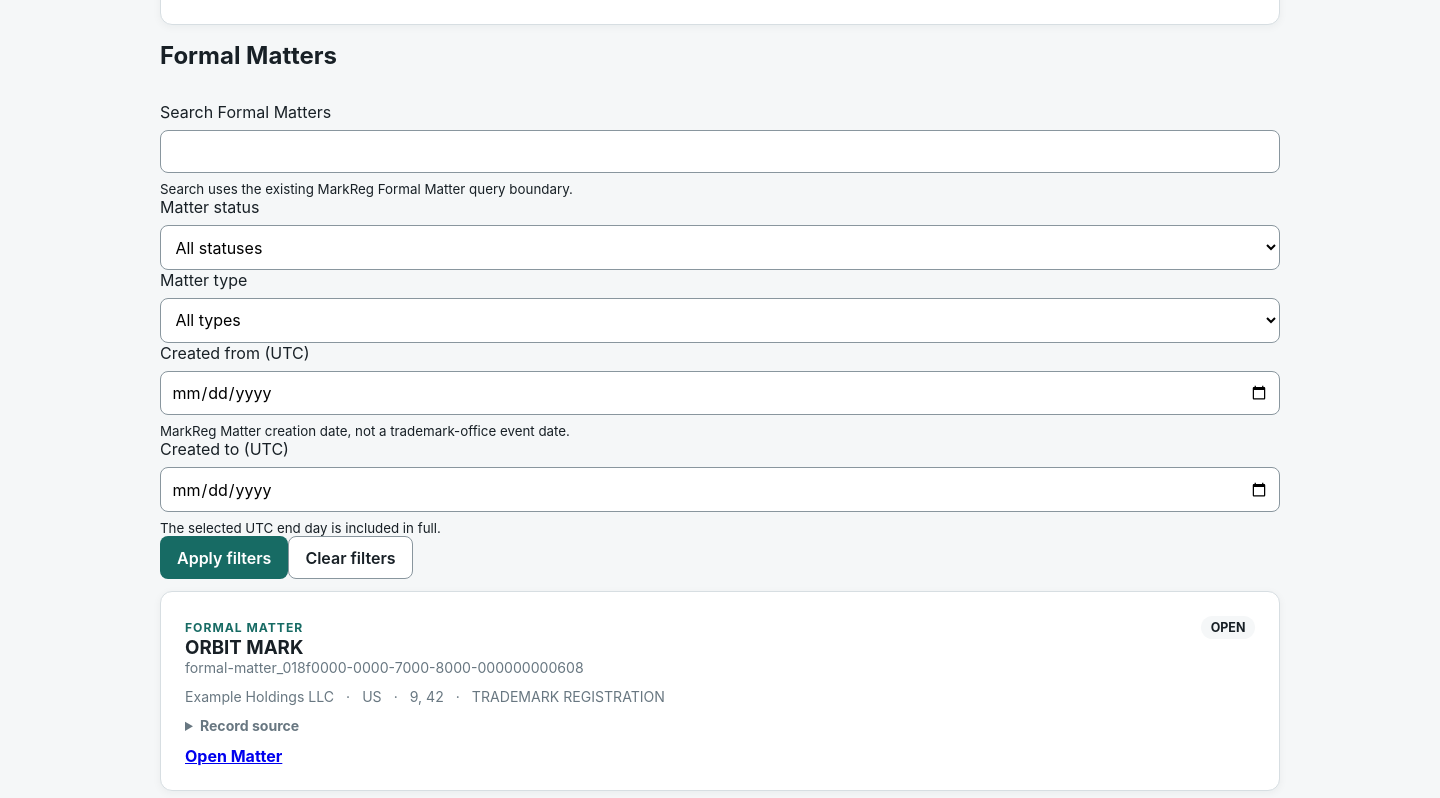
MarkReg durable Workspace Home › rejects an inverted creation range without replacing durable Matter results
This screenshot has width=1440, height=798.
(page scrolled)
Expected: the text "formal-matter_018f0000-0000-7000-8000-000000000608" is shown, [185, 659, 584, 676]
Step 1. Type "2026-09-01" into the date field labelled "Created from (UTC)" → (720, 393), box [160, 371, 1280, 416]
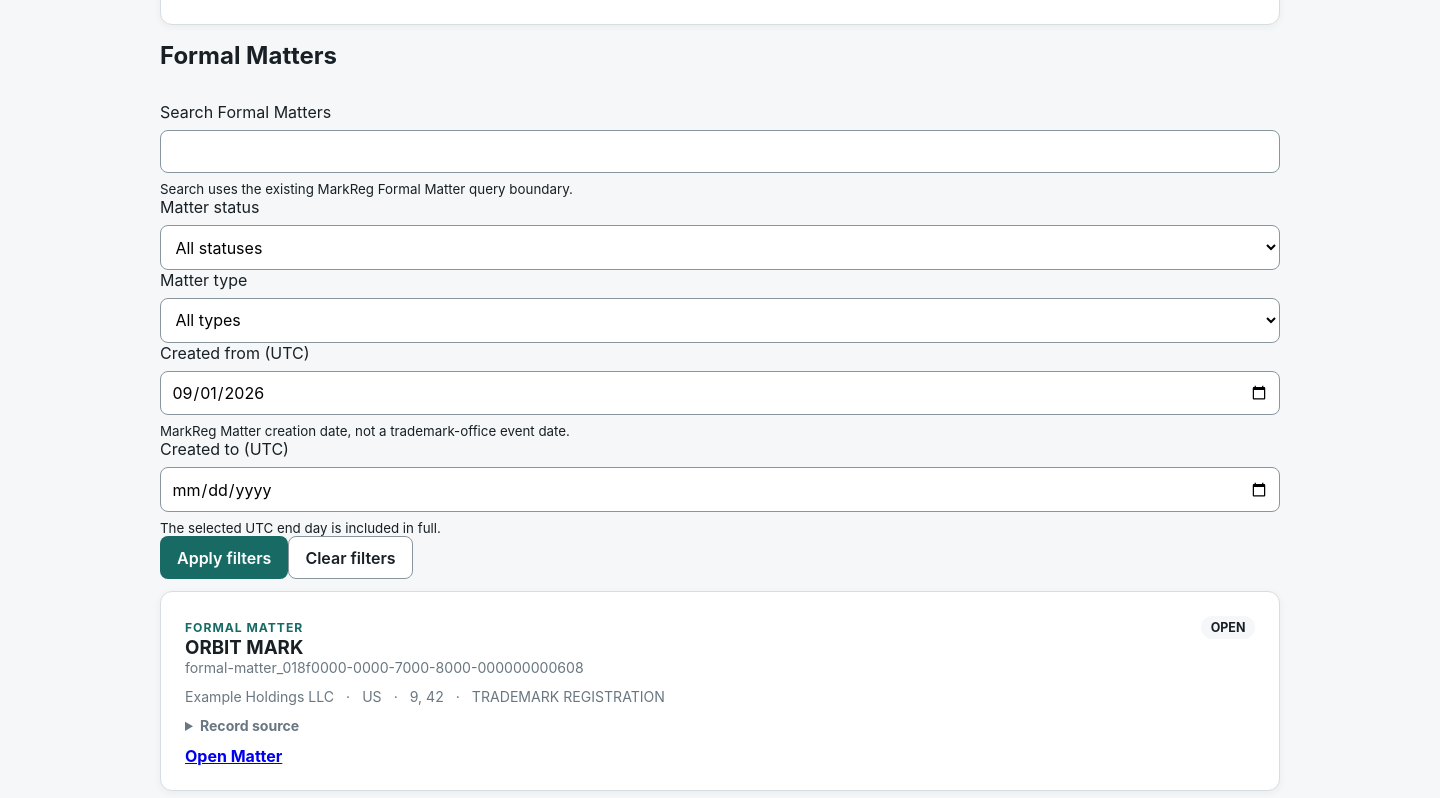
Step 2. Type "2026-08-31" into the date field labelled "Created to (UTC)" → (720, 490), box [160, 468, 1280, 512]
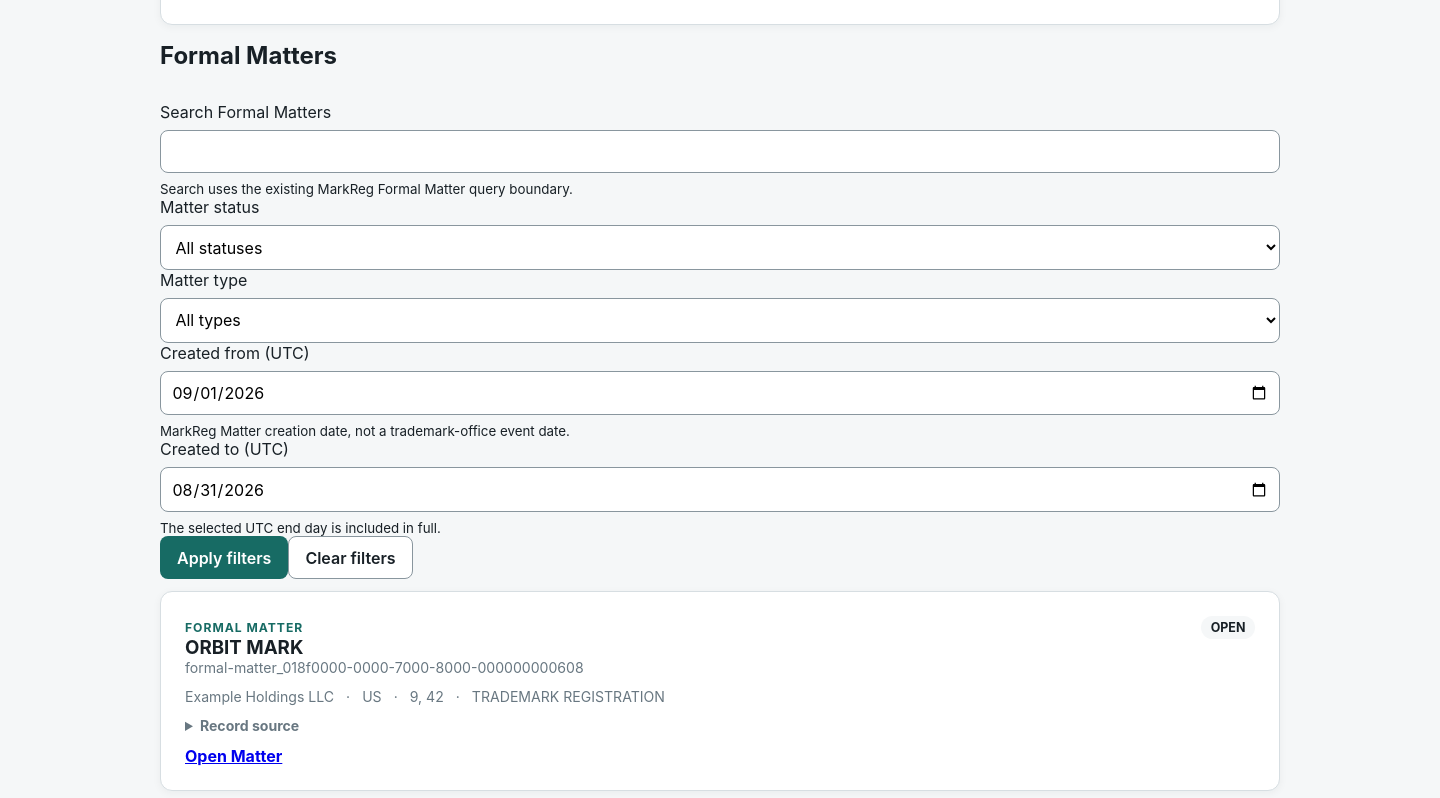
Step 3. Click the button "Apply filters" → (224, 558), box [160, 536, 288, 579]
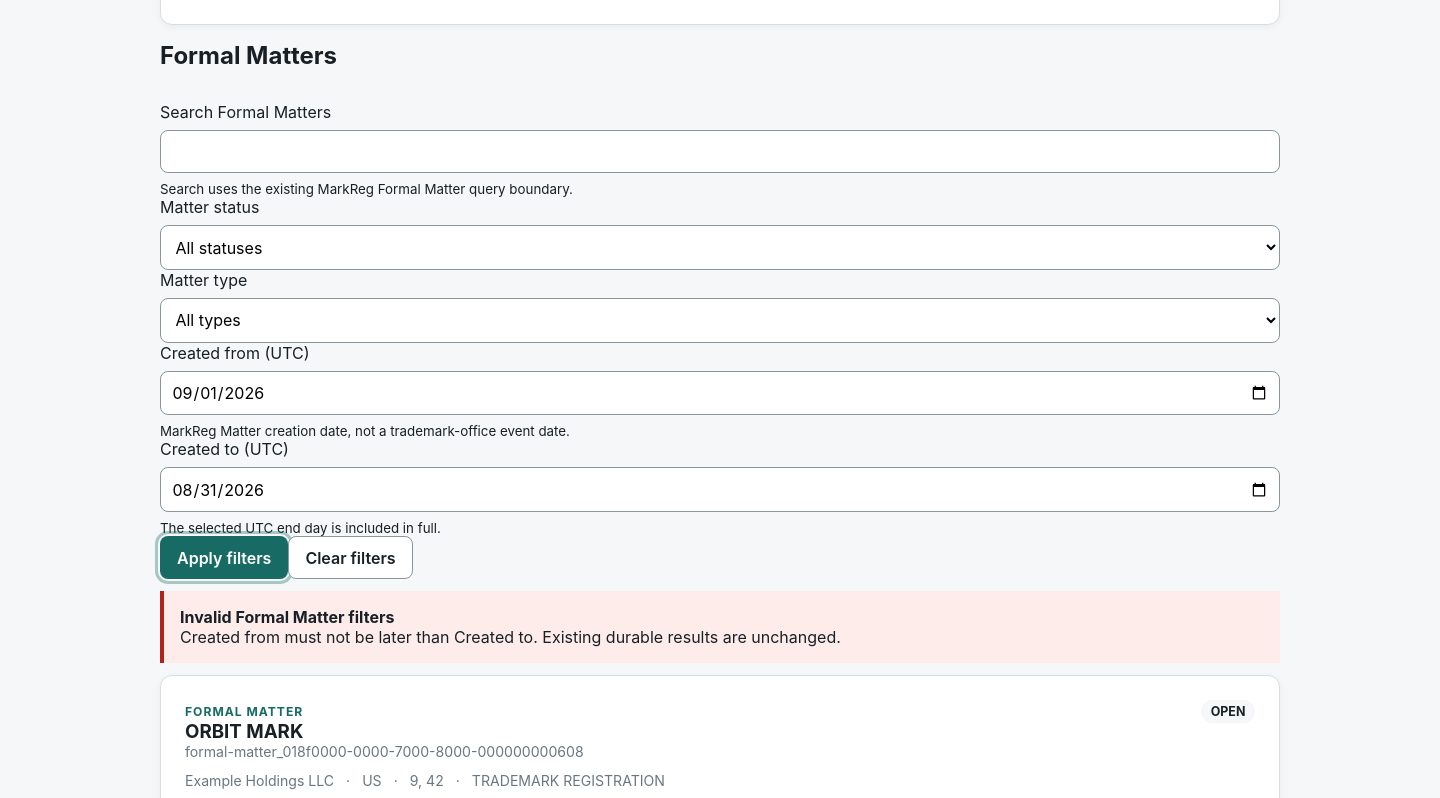
Expected: the text "formal-matter_018f0000-0000-7000-8000-000000000608" is shown, [185, 743, 584, 760]
Result: the message shows "Created from must not be later than Created to. Existing durable results are unchanged." at [160, 591, 1280, 663]
